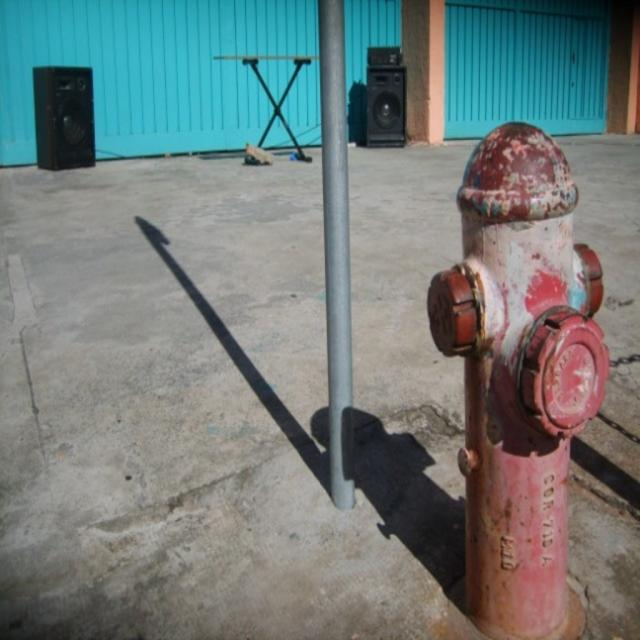fire_hydrant: (431, 120, 608, 639)
